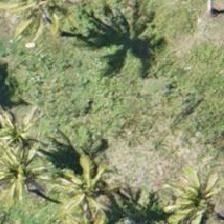coconut_tree: (47, 148, 137, 223), (0, 96, 63, 186), (0, 128, 62, 218), (0, 0, 88, 48), (153, 163, 223, 223)
